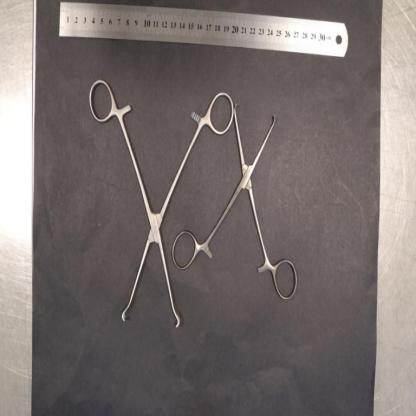8 Babcock Tissue Forceps: (87, 78, 234, 332)
Allis Tissue Forceps: (171, 103, 298, 303)
